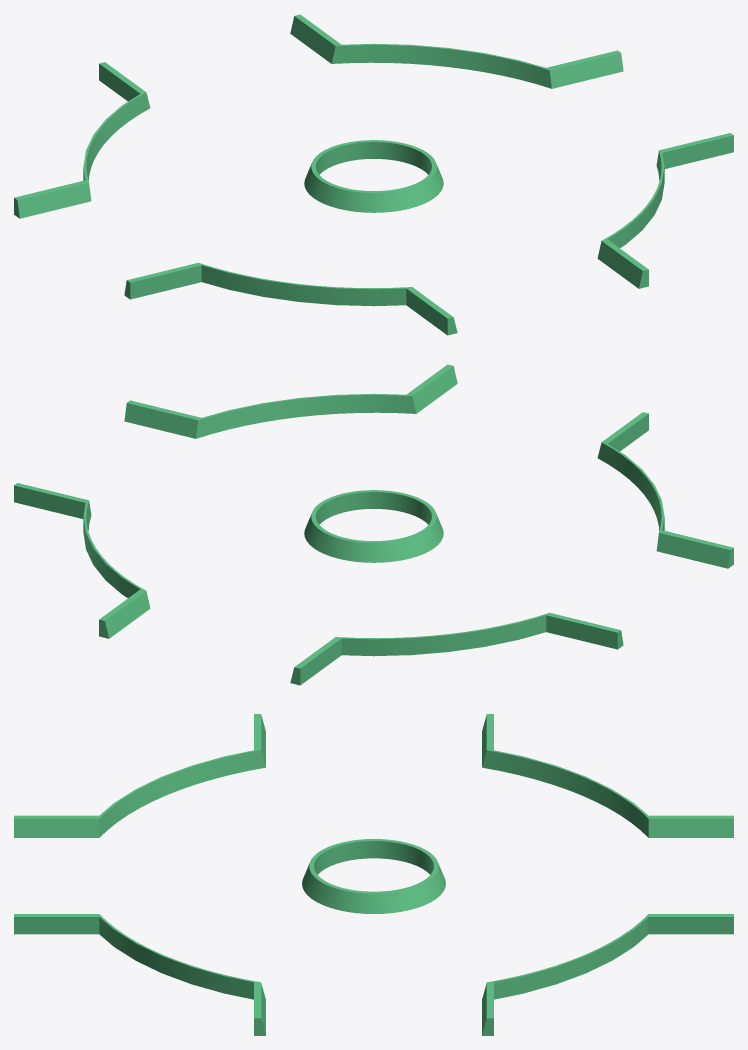
The model's file is road_roundabout_barrier.glb.
3 renders of one model, top to bottom at view 1: azimuth 30°, elevation 25°; view 2: azimuth 150°, elevation 25°; view 3: azimuth 270°, elevation 25°, orthographic. The views are drawn at different scales.
Parts seen in each view (by area): view 1: road-roundabout-barrier; view 2: road-roundabout-barrier; view 3: road-roundabout-barrier.
Boxes of the visible parts, x1,y1,x2,y2 form: road-roundabout-barrier: [14, 14, 733, 335]; road-roundabout-barrier: [14, 364, 733, 685]; road-roundabout-barrier: [14, 714, 733, 1035].
Bounding box in the file's own units: 3 × 0.08 × 3.
Materials: 1 (1 with a texture image).
